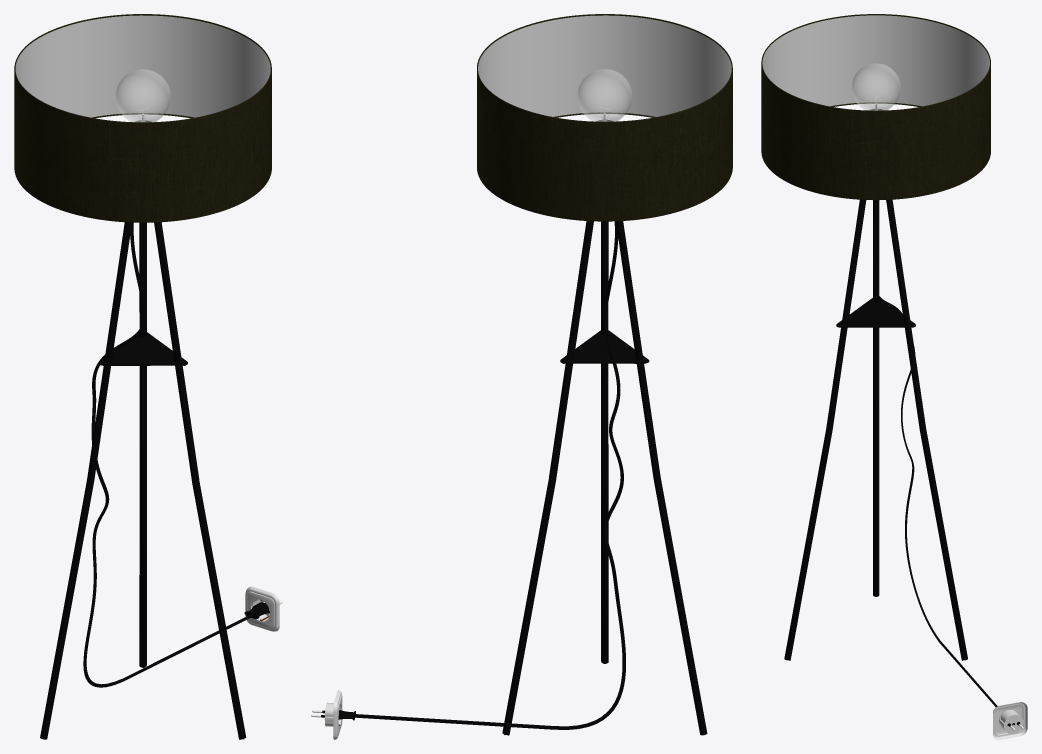
The model's file is floor_lamp_drum.glb.
The picture shows the model from 3 angles, left to right: view 1: azimuth 30°, elevation 25°; view 2: azimuth 150°, elevation 25°; view 3: azimuth 270°, elevation 25°; orthographic projection. The views are drawn at different scales.
Parts seen in each view (by area): view 1: Object_5, Object_4, Object_12, Object_22, Object_16, Object_6; view 2: Object_5, Object_4, Object_12, Object_16, Object_22; view 3: Object_5, Object_4, Object_12, Object_22, Object_16, Object_6.
Part boxes in pixels (<box>): Object_5: <box>14,14,271,222</box>; Object_4: <box>15,15,270,117</box>; Object_12: <box>40,222,246,739</box>; Object_22: <box>115,69,170,122</box>; Object_16: <box>83,222,252,687</box>; Object_6: <box>143,113,279,631</box>; Object_5: <box>477,14,732,221</box>; Object_4: <box>478,15,731,116</box>; Object_12: <box>502,221,707,735</box>; Object_16: <box>355,221,625,729</box>; Object_22: <box>577,69,632,121</box>; Object_5: <box>761,14,990,200</box>; Object_4: <box>762,15,989,106</box>; Object_12: <box>784,199,967,660</box>; Object_22: <box>851,63,900,110</box>; Object_16: <box>873,200,997,706</box>; Object_6: <box>875,105,1027,739</box>.
Size of the model in its own units: 0.8532 by 1.65 by 0.6723.
11 materials, 1 textured.
